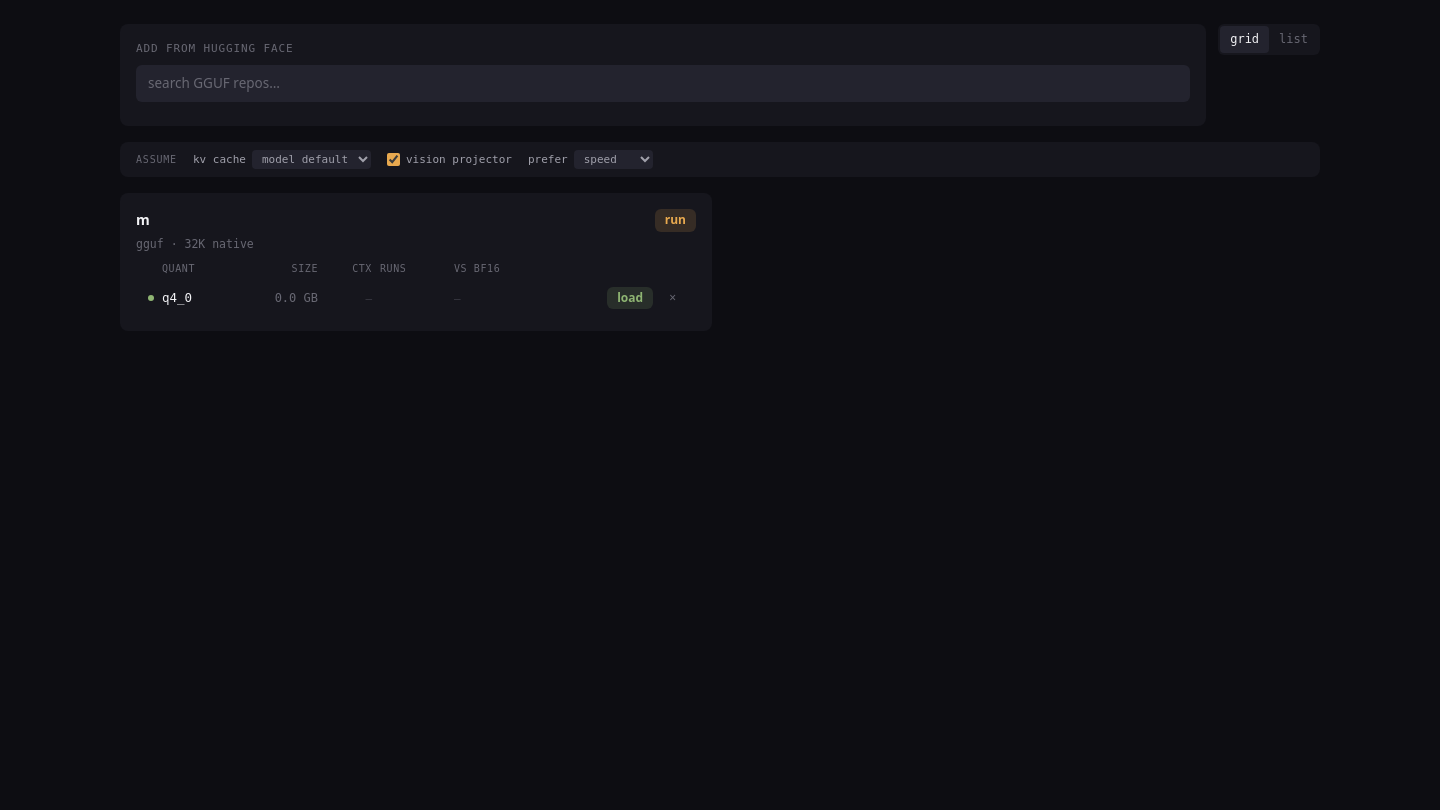
it: the first-load trigger › asks before a per-quant load too, not only before the card's run
Click the button "load". click: (630, 298)
box: [607,287,653,310]
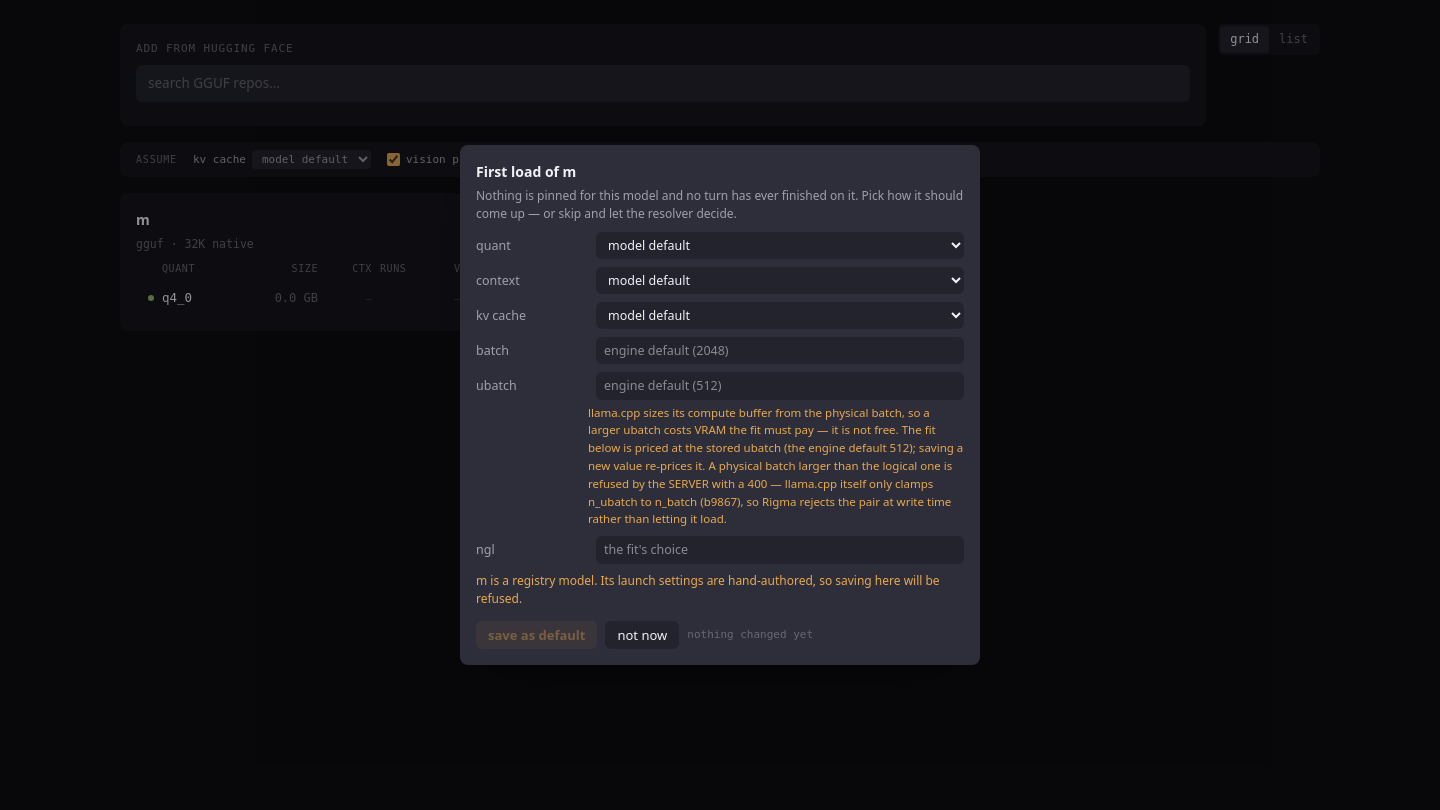
Now the text "First load of m" is shown, box [476,162,576,181]
